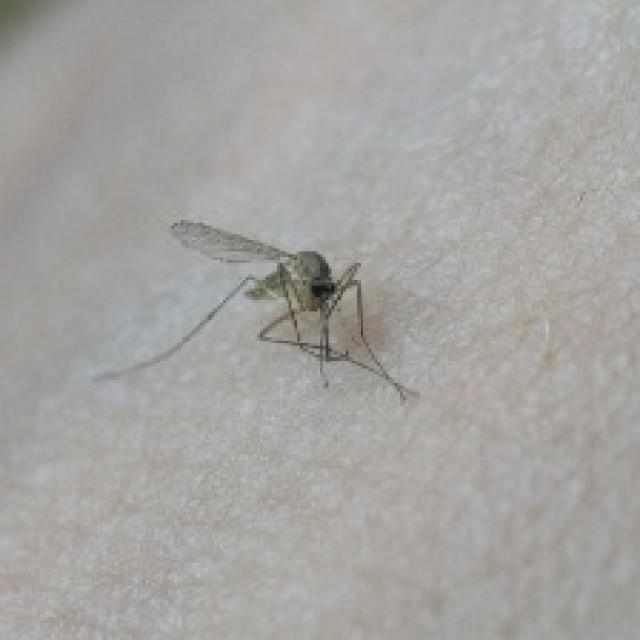culex: (92, 214, 417, 403)
